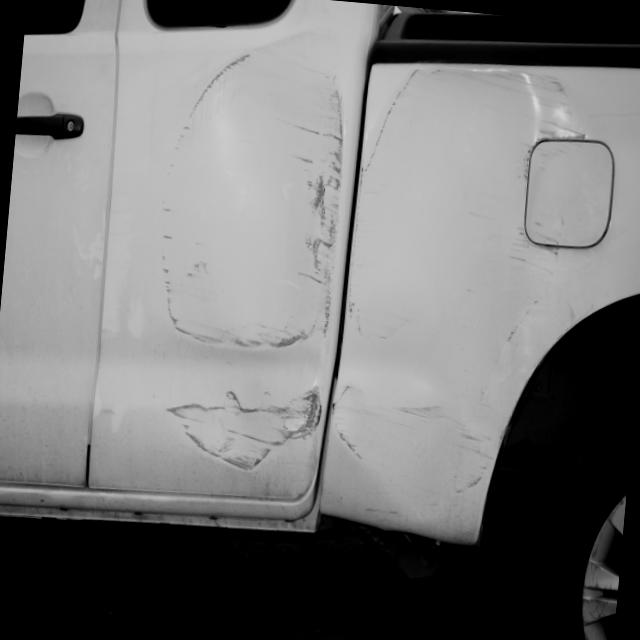Rayure: (107, 34, 268, 355), (239, 54, 367, 383), (497, 67, 602, 400), (323, 381, 503, 545), (161, 365, 344, 476), (351, 55, 428, 186)
